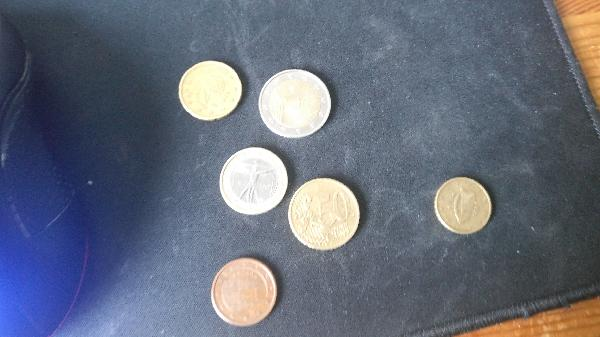Fifty Cent: (286, 174, 365, 253)
Five Cent: (211, 257, 280, 327)
One Euro: (219, 144, 289, 222)
Ten Cent: (432, 173, 492, 239)
Twenty Cent: (177, 59, 245, 127)
Two Euro: (257, 67, 340, 142)
